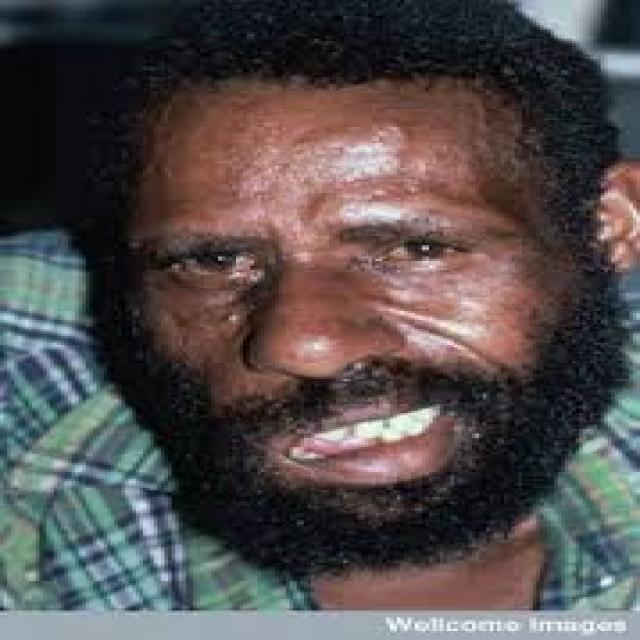stroke_face: (116, 32, 594, 554)
